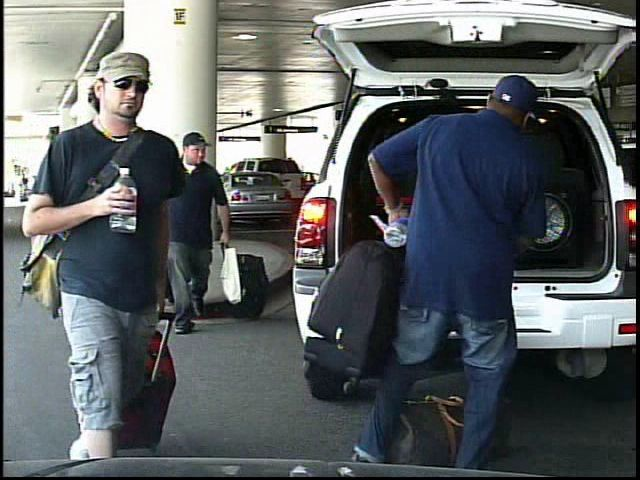person: (342, 70, 554, 470), (23, 48, 195, 475), (174, 119, 243, 331), (12, 170, 23, 201)
